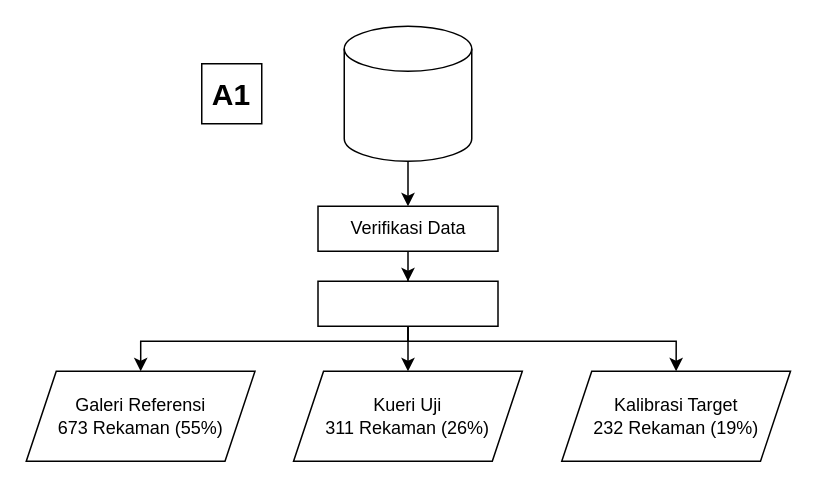
Some shapes in this 818 by 488 pixel diagram are drawn without their labels. The shapes that lost their labels are listed below. From the top down, each one's centre as x and y in pixels, then its label:
At pixel 407 93: "Rekaman Burung Target".
At pixel 407 303: "Pembagian Data".
